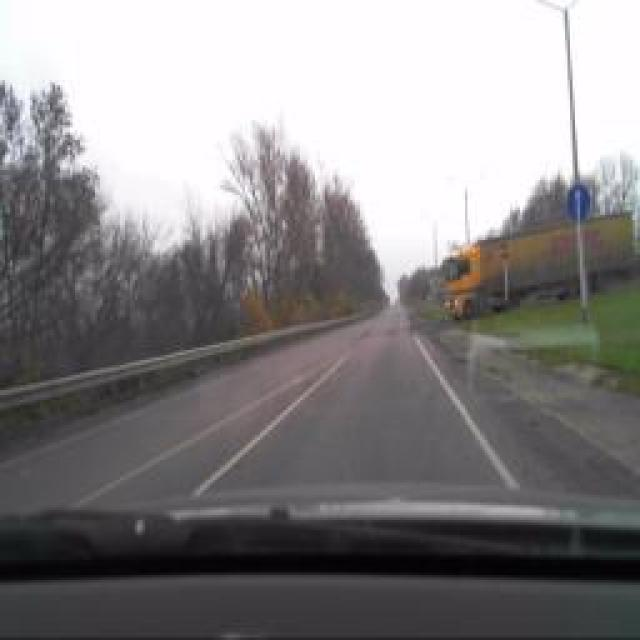sign: (499, 240, 509, 258)
